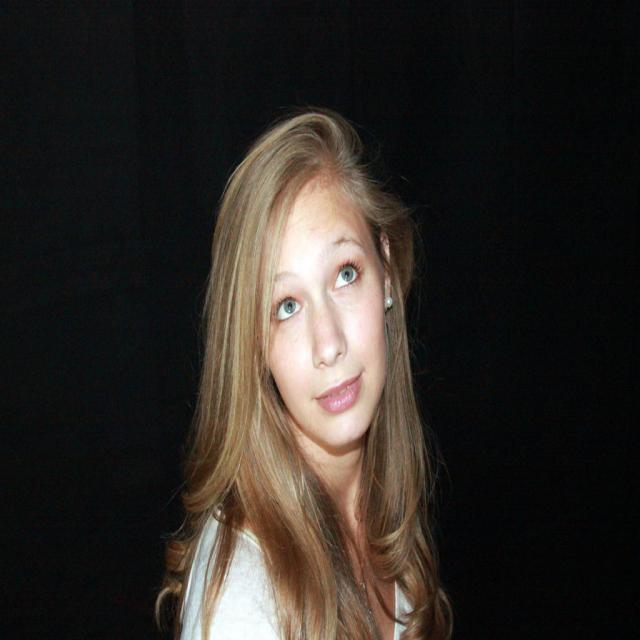closed-mouth: (309, 369, 366, 415)
